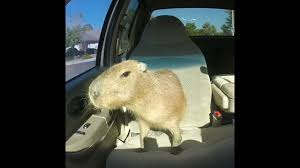capivara: (88, 60, 191, 155)
